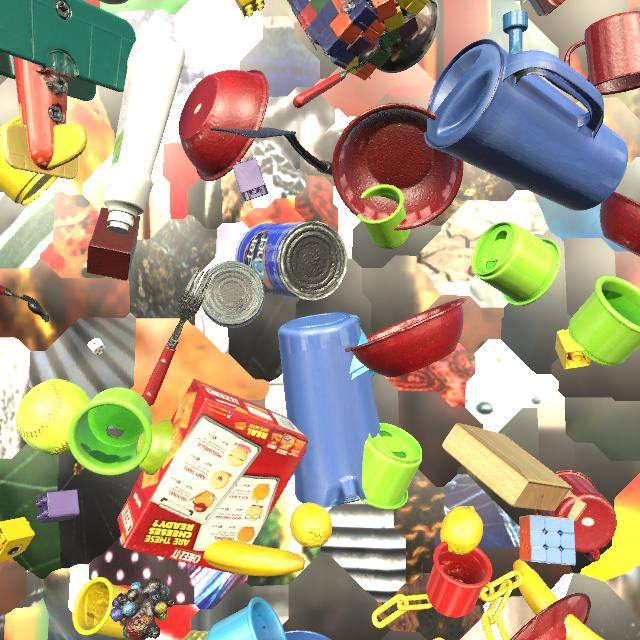ycb_002_master_chef_can: (235, 221, 348, 301)
ycb_003_cracker_box: (118, 379, 308, 574)
ycb_007_tuna_fish_can: (199, 261, 265, 328)
ycb_008_pudding_box: (529, 0, 566, 16)
ycb_011_banana: (513, 559, 604, 640), (203, 539, 305, 576)
ycb_014_lemon: (440, 506, 483, 555), (290, 503, 332, 548)
ycb_016_pear: (136, 416, 173, 475)
